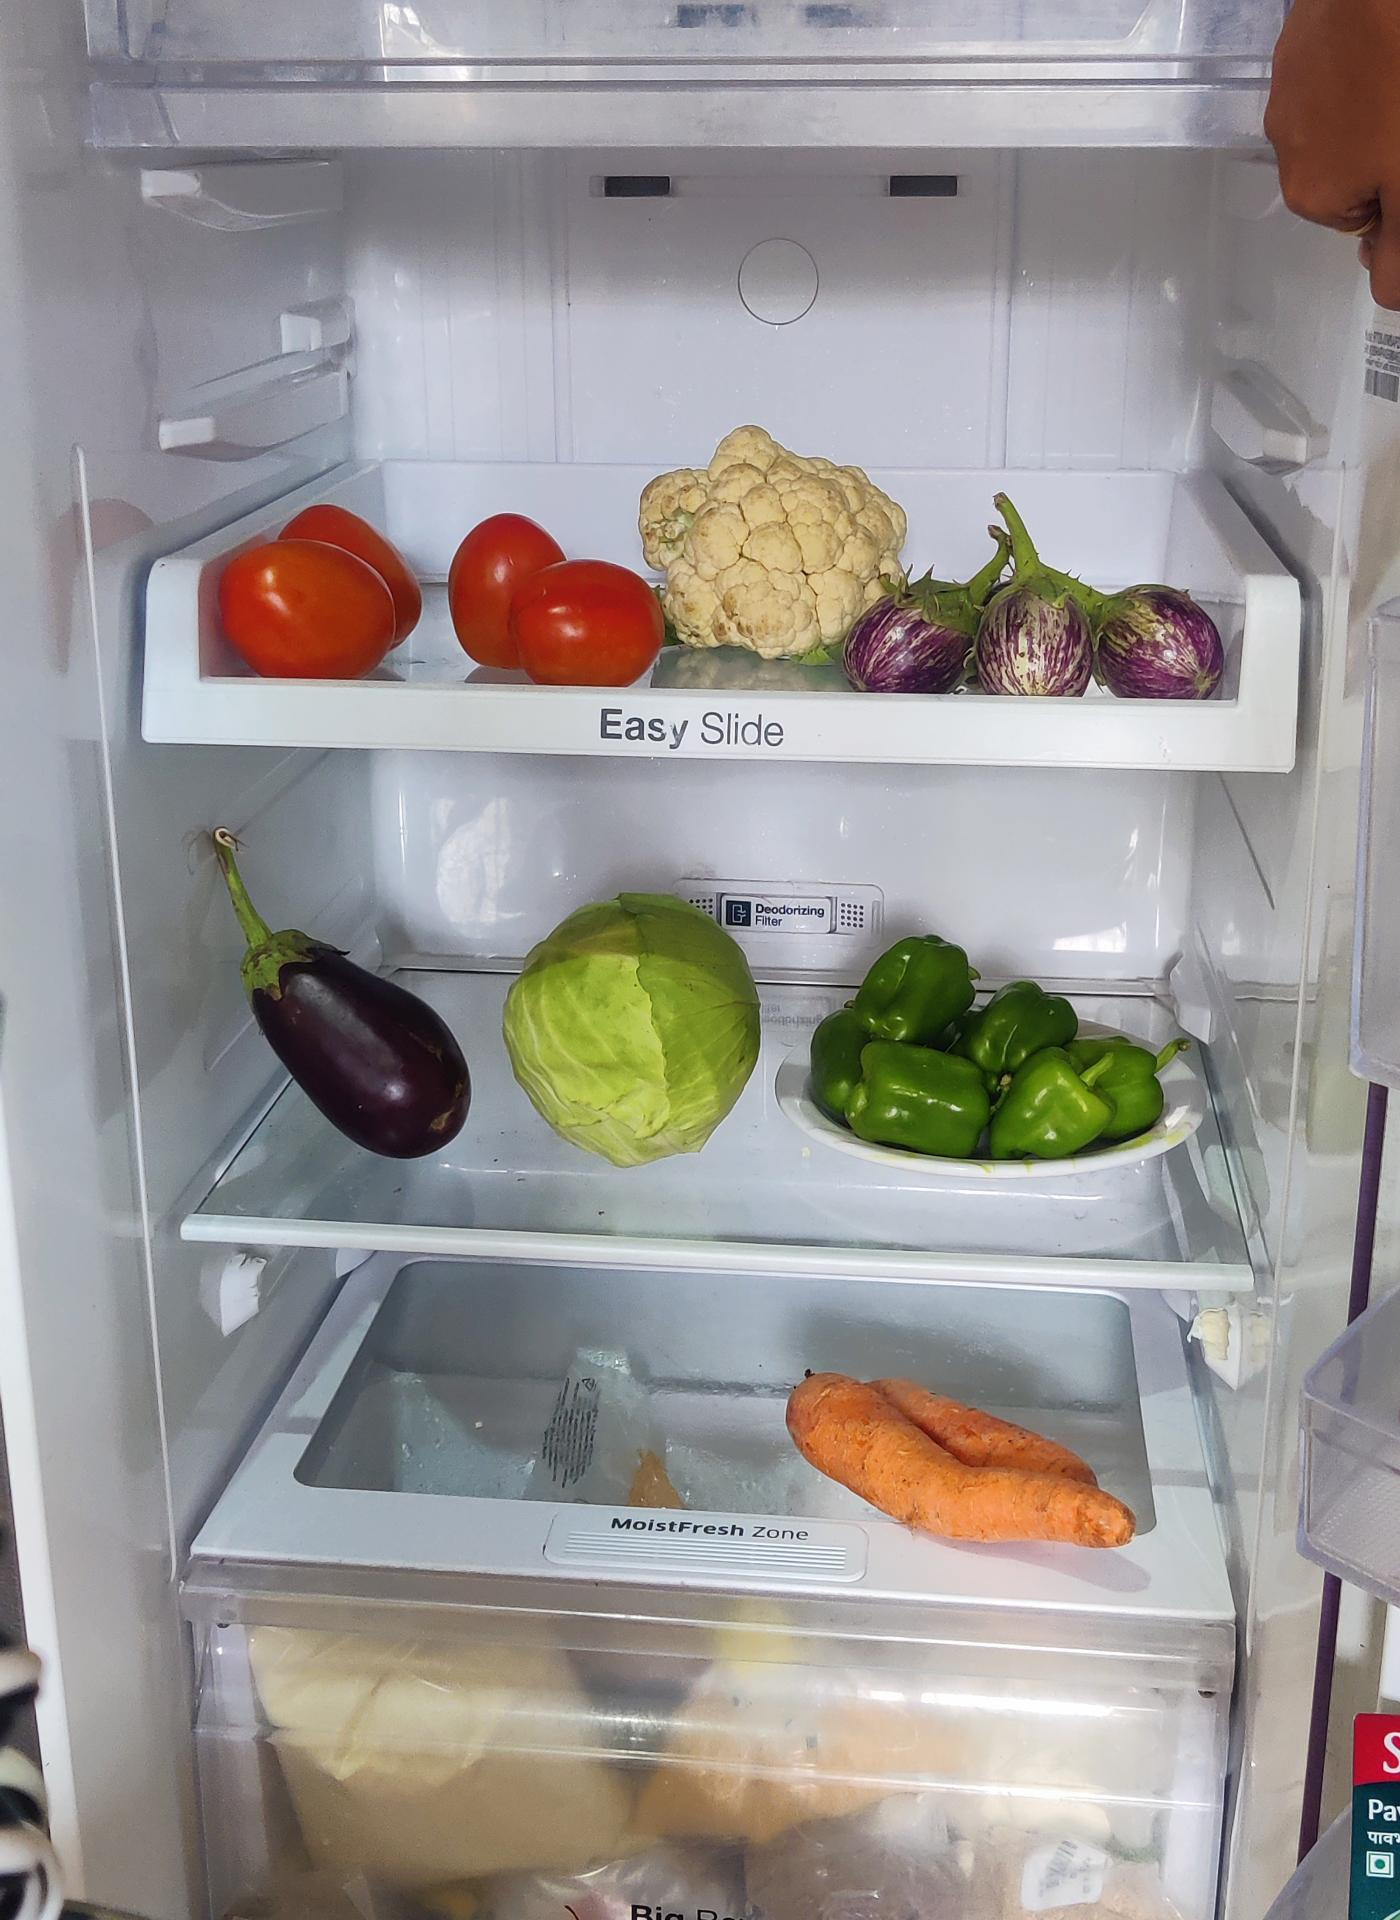brinjal: (245, 896, 464, 1166), (890, 551, 1224, 697)
cabbage: (504, 897, 763, 1164)
capsicum: (802, 929, 1184, 1158)
carrots: (781, 1368, 1142, 1556)
cauliflower: (641, 431, 910, 665)
tomato: (226, 514, 659, 691), (213, 510, 426, 682)
